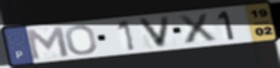1: (116, 19, 137, 52), (216, 10, 237, 41)
M: (23, 25, 72, 61)
O: (64, 24, 100, 56)
V: (136, 14, 173, 49)
X: (175, 12, 219, 45)
